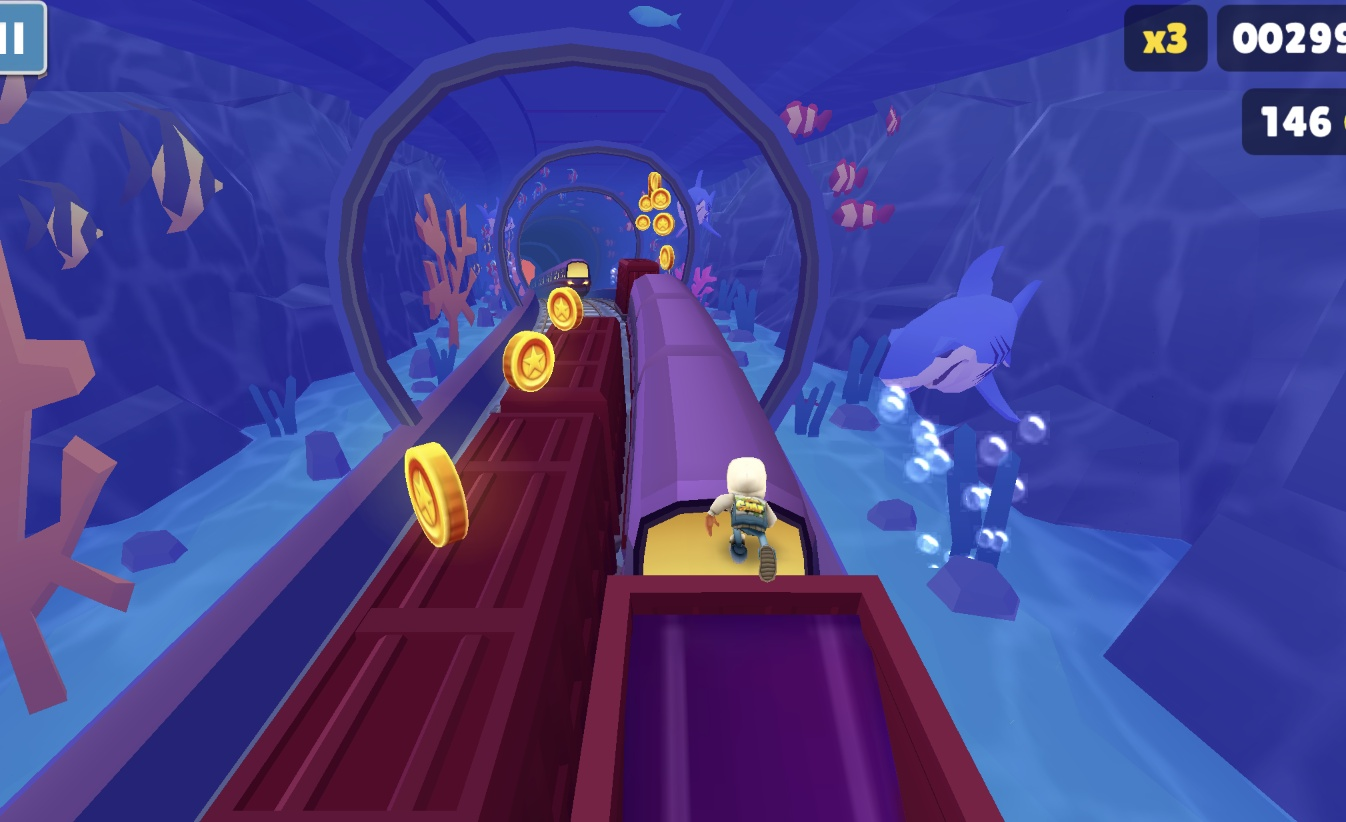train: (196, 317, 625, 822), (537, 572, 1008, 822), (622, 273, 838, 582), (617, 259, 661, 319), (542, 259, 592, 301)
